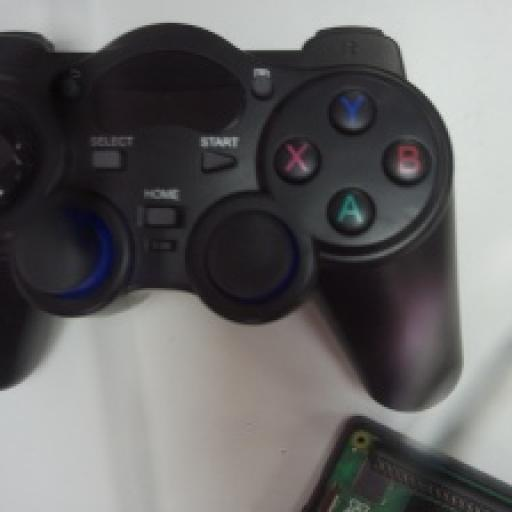game pad: (0, 23, 459, 409)
